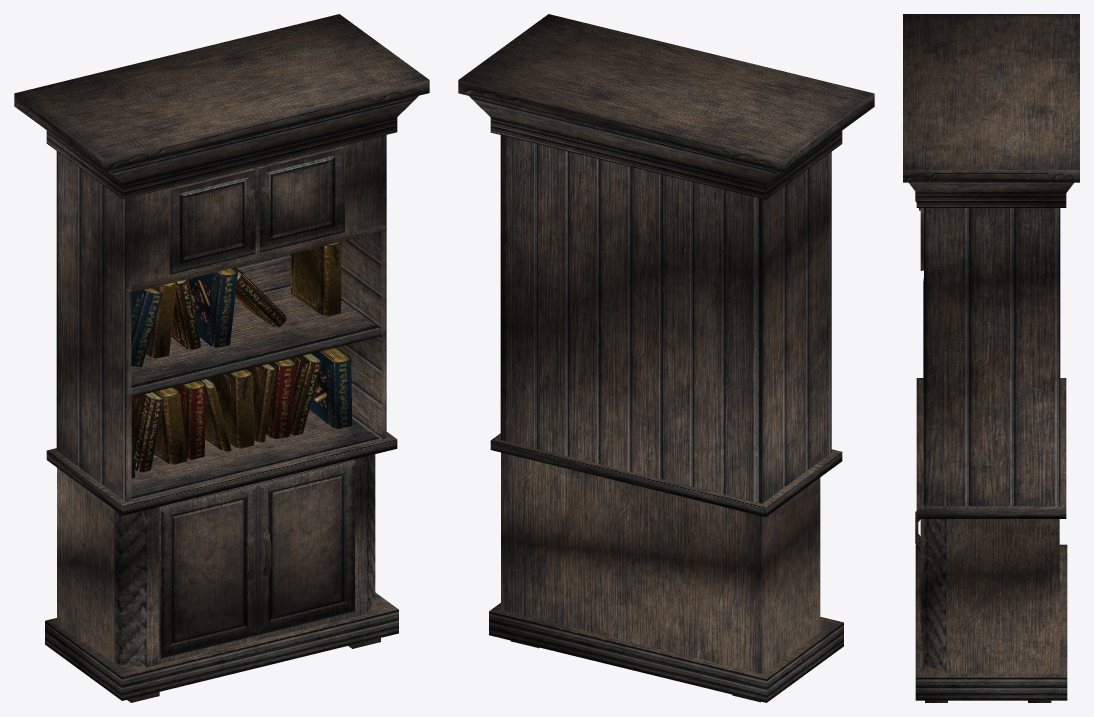
File: GS_VOB_BOOKCASE_BLACK_01_KOZA.glb
The picture shows the model from 3 angles, left to right: view 1: azimuth 30°, elevation 25°; view 2: azimuth 150°, elevation 25°; view 3: azimuth 270°, elevation 25°; orthographic projection. The views are drawn at different scales.
Parts seen in each view (by area): view 1: Mesh; view 2: Mesh; view 3: Mesh.
Boxes of the visible parts, x1,y1,x2,y2 form: Mesh: [14, 14, 429, 702]; Mesh: [458, 14, 874, 702]; Mesh: [903, 14, 1079, 702].
Bounding box in the file's own units: 1.41 × 2.33 × 0.6778.
5 materials, 5 textured.
